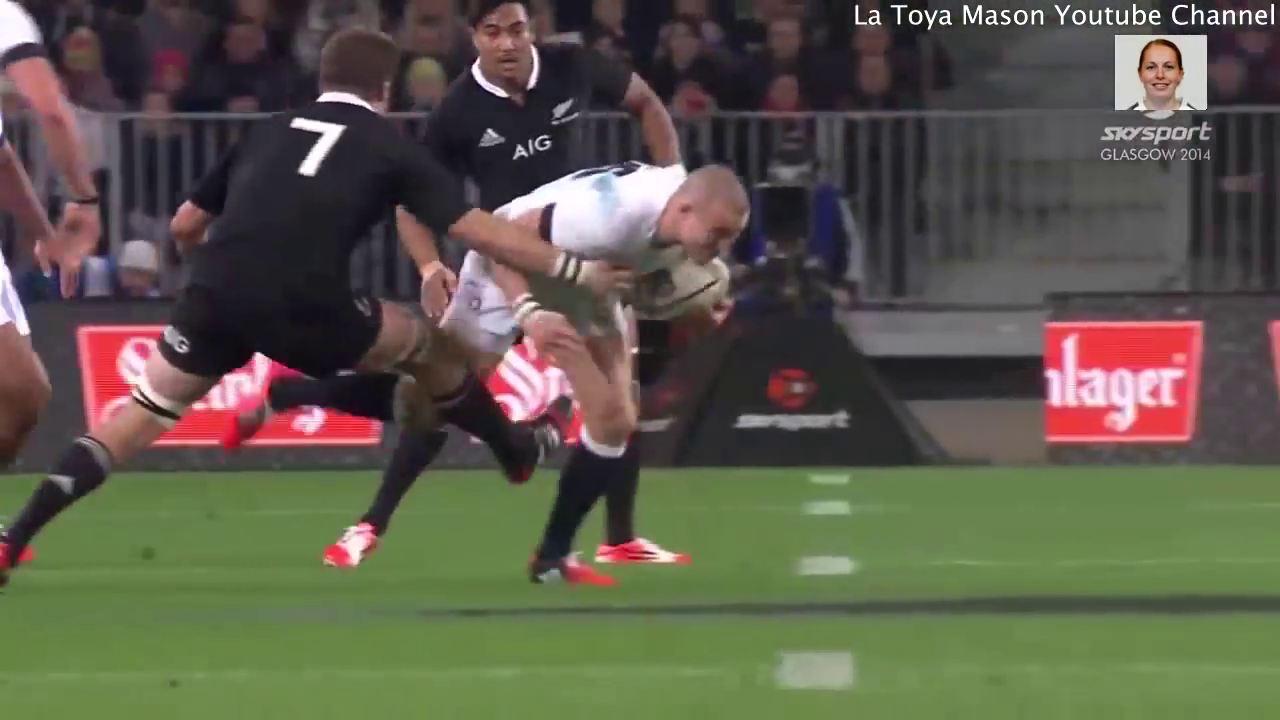ball: (627, 236, 731, 331)
player: (1, 28, 423, 578), (313, 150, 750, 604), (415, 1, 658, 187)
